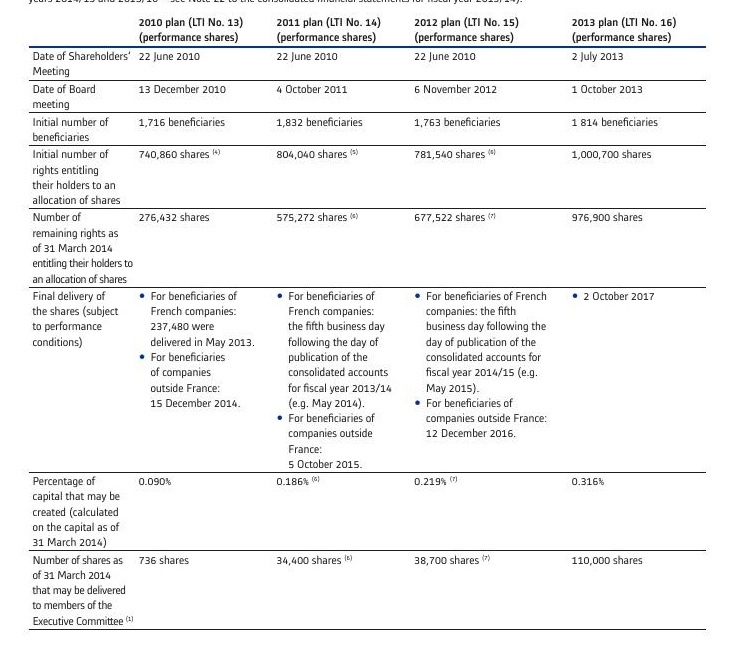table: (0, 0, 730, 649)
